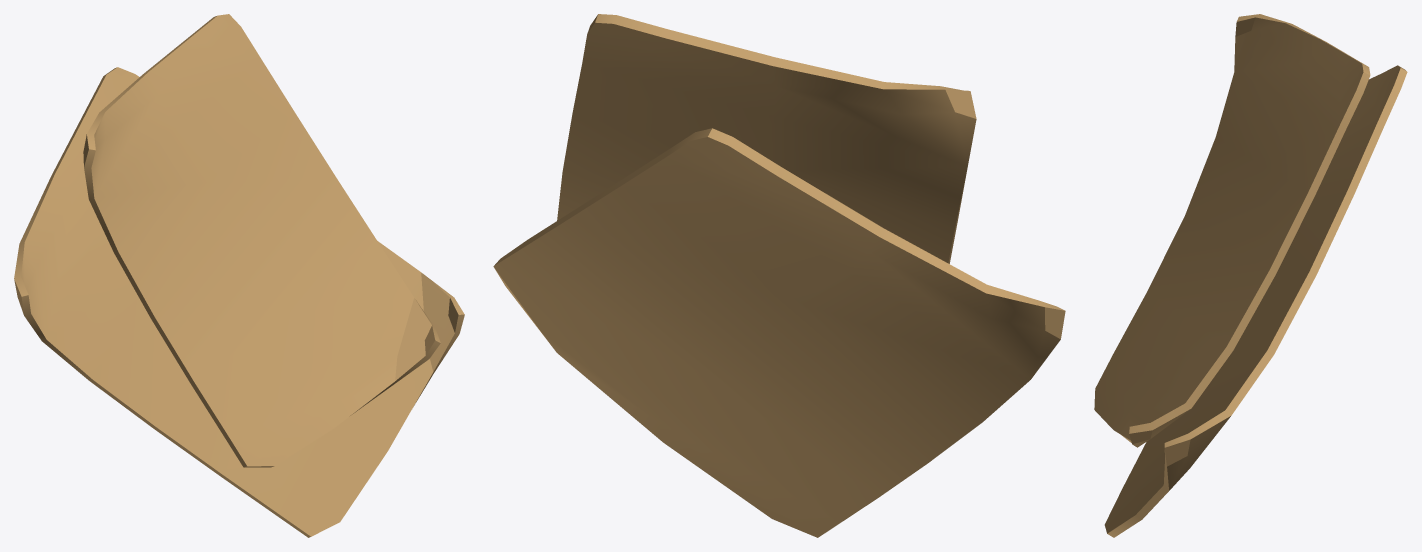
Rendered from ui-paper.glb.
The picture shows the model from 3 angles, left to right: view 1: azimuth 30°, elevation 25°; view 2: azimuth 150°, elevation 25°; view 3: azimuth 270°, elevation 25°; orthographic projection. The views are drawn at different scales.
Visible parts, largest first — view 1: UI_Paper; view 2: UI_Paper; view 3: UI_Paper.
Part boxes in pixels (x1,y1,x2,y2): UI_Paper: (14,14,464,537); UI_Paper: (493,14,1065,537); UI_Paper: (1094,14,1407,537).
Size of the model in its own units: 0.5096 by 0.5156 by 0.3065.
1 material, 1 textured.
